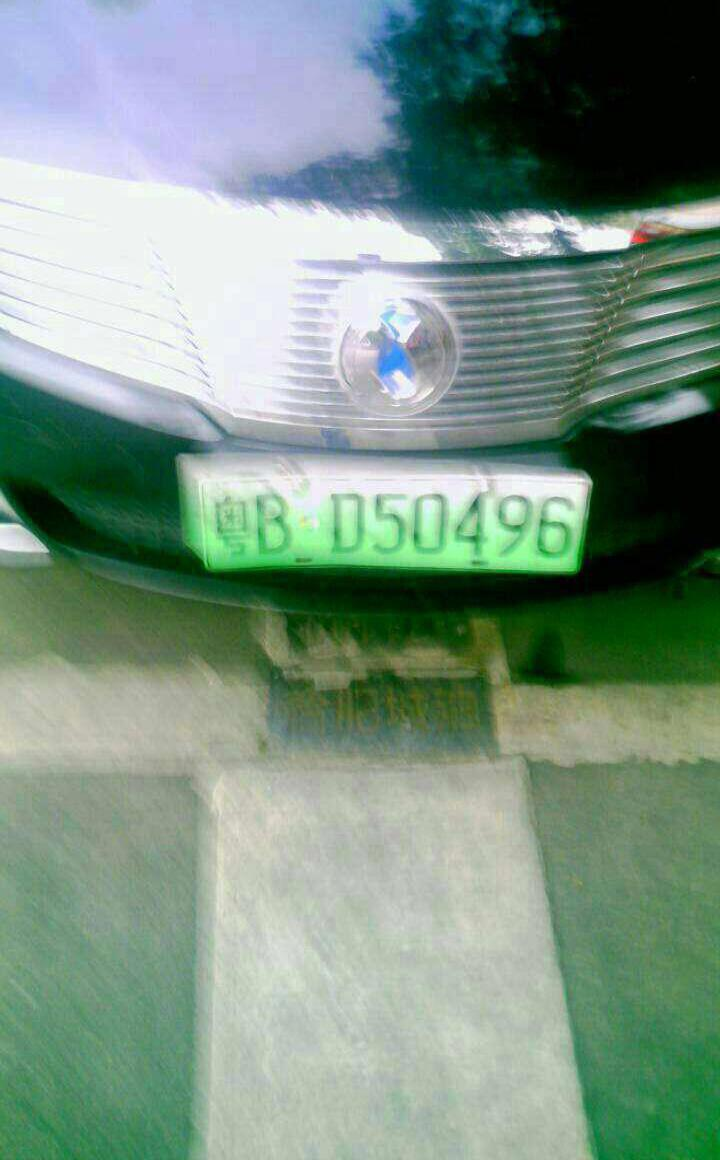car_id: (201, 478, 587, 576)
